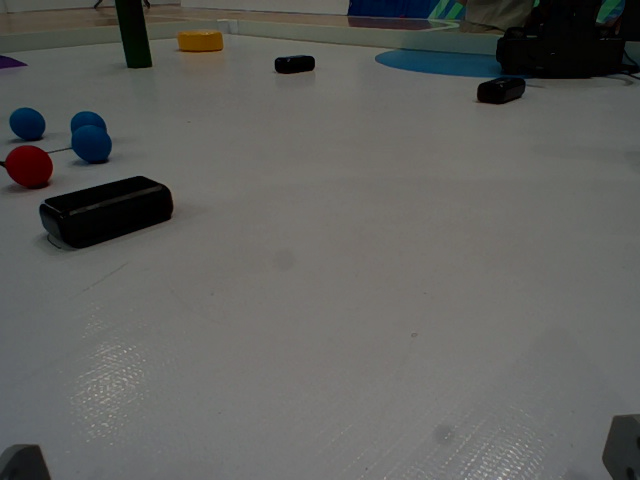black: (39, 170, 181, 262), (476, 75, 527, 105), (268, 52, 316, 74)
blue: (71, 125, 113, 163), (66, 106, 107, 144), (8, 100, 45, 141)
red: (3, 145, 64, 185)
yellow: (176, 29, 229, 53)
zhuzi: (116, 1, 155, 71)
